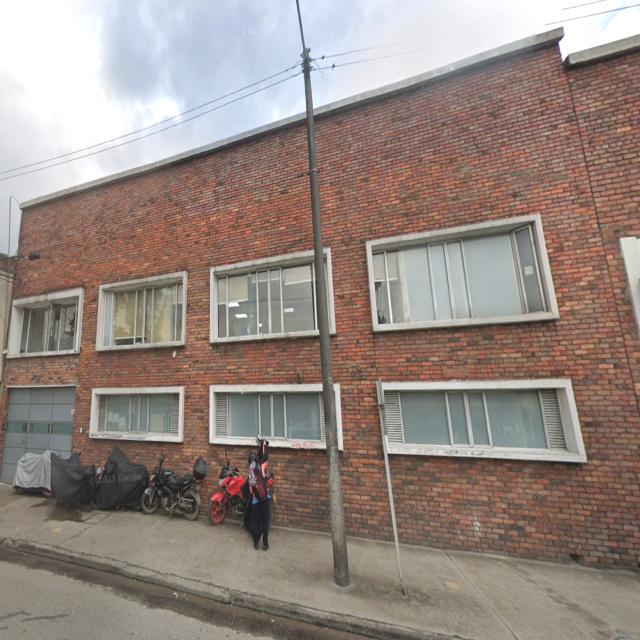fachada: (316, 30, 639, 566), (0, 253, 16, 391)
poste: (296, 0, 349, 587), (377, 380, 405, 595)
